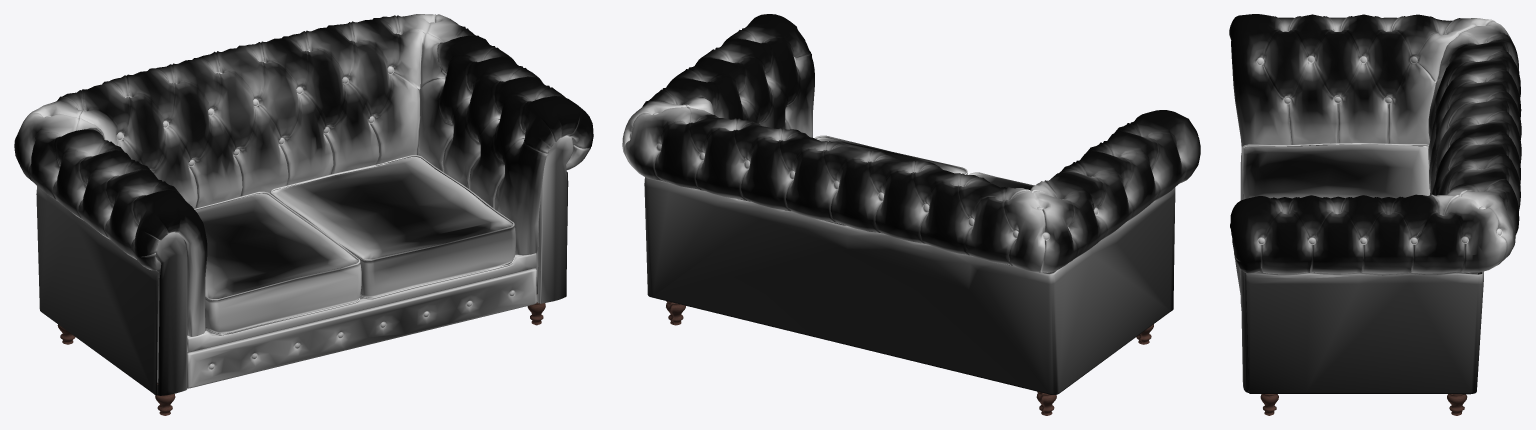
File: celshadedsofa.fbx
3 views of the same model, side by side, from view 1: azimuth 30°, elevation 25°; view 2: azimuth 150°, elevation 25°; view 3: azimuth 270°, elevation 25° (orthographic). The views are drawn at different scales.
Visible parts, largest first — view 1: sofa_geo_Leather_mat_0.001; view 2: sofa_geo_Leather_mat_0.001; view 3: sofa_geo_Leather_mat_0.001.
Boxes of the visible parts, x1,y1,x2,y2 form: sofa_geo_Leather_mat_0.001: (14,14,593,415); sofa_geo_Leather_mat_0.001: (622,14,1200,415); sofa_geo_Leather_mat_0.001: (1229,14,1521,415).
Bounding box in the file's own units: 212 × 103 × 122.
